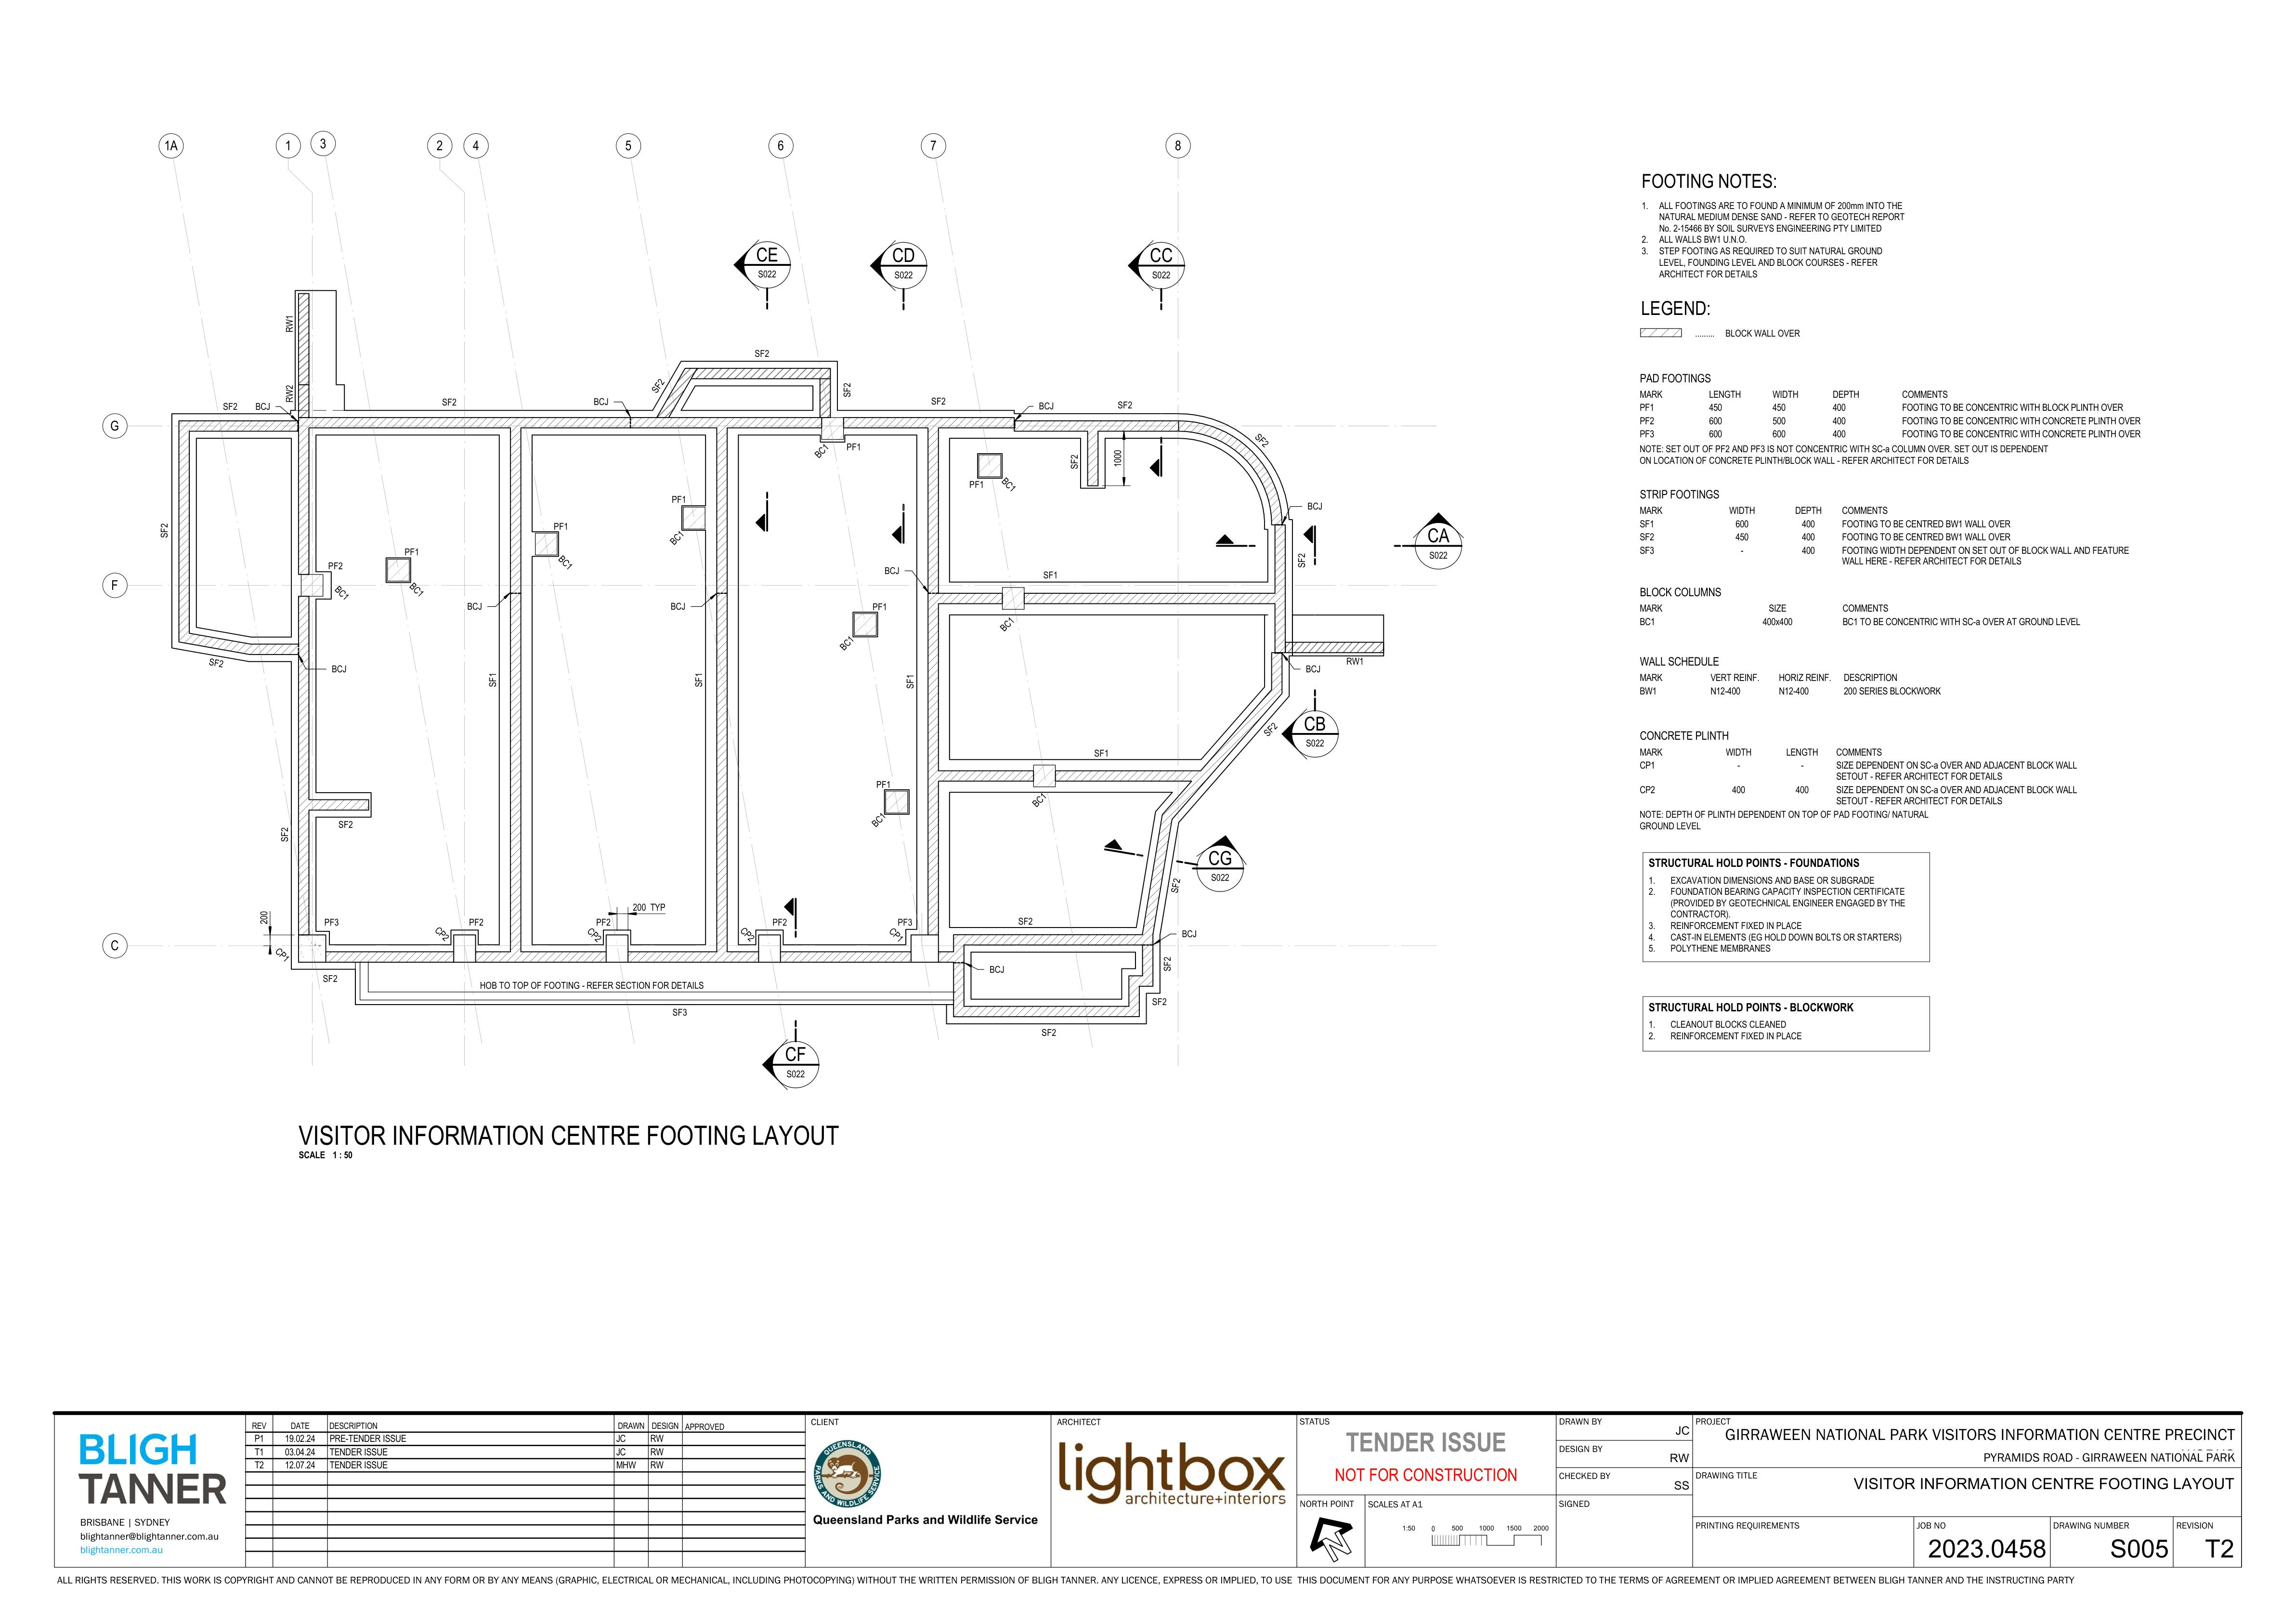BC1: (407, 581, 428, 599), (1001, 476, 1020, 493), (1034, 790, 1051, 809), (556, 555, 574, 572), (869, 811, 886, 829), (999, 616, 1018, 632), (335, 585, 351, 600), (671, 530, 686, 546), (814, 442, 830, 458), (843, 634, 853, 651)
BCJ: (1304, 660, 1329, 679), (1036, 397, 1060, 414), (1309, 497, 1329, 513), (251, 398, 272, 413), (885, 563, 902, 578), (595, 395, 613, 407)
CP1: (274, 946, 290, 965), (888, 927, 906, 943)
CP2: (432, 925, 449, 943), (743, 929, 757, 944)
PF1: (874, 774, 895, 790), (671, 490, 693, 504), (402, 541, 421, 556), (844, 439, 864, 455), (867, 599, 890, 611), (969, 474, 988, 488), (551, 518, 570, 532)
PF2: (467, 913, 493, 930), (771, 915, 793, 929), (321, 556, 344, 571), (597, 915, 618, 927)
PF3: (321, 913, 349, 929), (895, 913, 915, 929)
RW1: (279, 312, 297, 334), (1343, 655, 1367, 669)
RW2: (279, 383, 298, 402)
SF1: (900, 671, 915, 697), (1041, 569, 1064, 585), (1092, 746, 1115, 762), (692, 665, 706, 688), (483, 671, 499, 690)
SF2: (437, 390, 465, 409), (200, 650, 228, 669), (1253, 427, 1274, 448), (836, 376, 855, 398), (753, 346, 779, 362), (922, 395, 950, 409), (1109, 397, 1136, 411), (277, 825, 293, 848), (335, 818, 360, 832), (1295, 548, 1311, 569), (1167, 876, 1183, 897), (318, 971, 341, 985), (1162, 957, 1180, 974), (156, 518, 170, 539), (648, 377, 665, 393), (219, 395, 239, 409), (1152, 994, 1171, 1008), (1069, 451, 1081, 472), (1037, 1027, 1062, 1037), (1013, 915, 1034, 927), (1266, 721, 1280, 739)
SF3: (674, 1009, 692, 1018)
